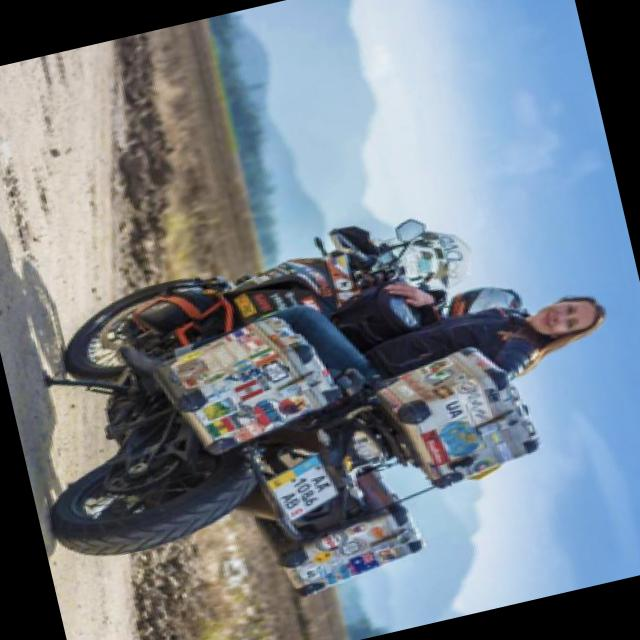bareface: (518, 286, 618, 356)
